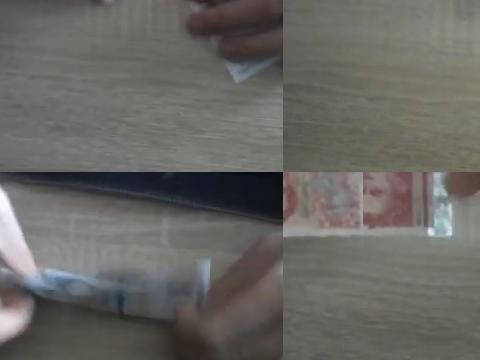5leva: (283, 172, 363, 234)
